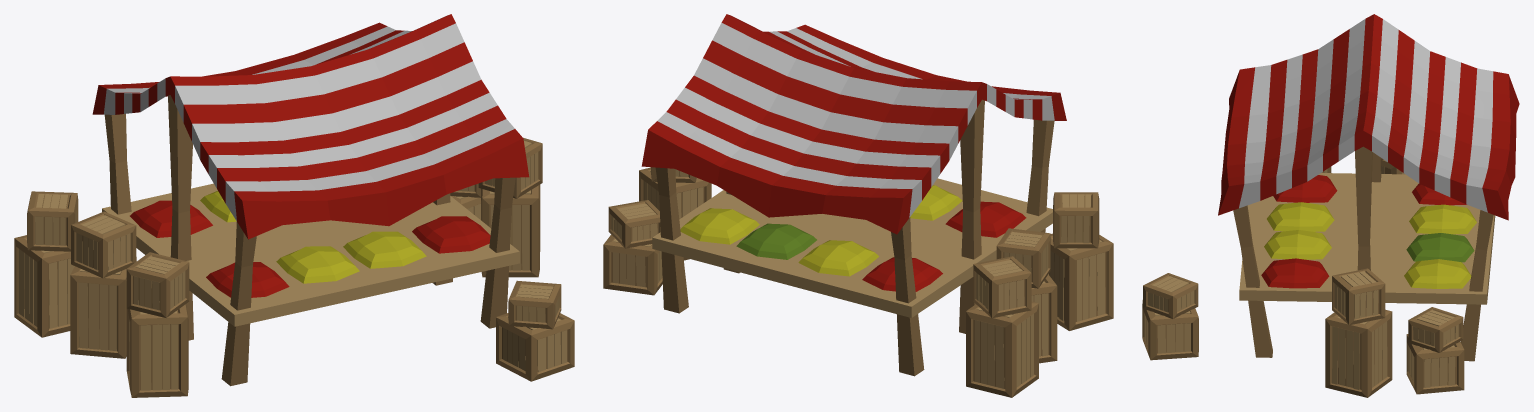
File: stand2.glb
3 views of the same model, side by side, from view 1: azimuth 30°, elevation 25°; view 2: azimuth 150°, elevation 25°; view 3: azimuth 270°, elevation 25° (orthographic). The views are drawn at different scales.
Parts seen in each view (by area): view 1: Market_FirstAge_Level3; view 2: Market_FirstAge_Level3; view 3: Market_FirstAge_Level3.
Boxes of the visible parts, x1,y1,x2,y2 form: Market_FirstAge_Level3: [14, 14, 574, 397]; Market_FirstAge_Level3: [603, 14, 1113, 397]; Market_FirstAge_Level3: [1142, 14, 1519, 397].
Size of the model in its own units: 1.01 by 0.5515 by 0.8189.
